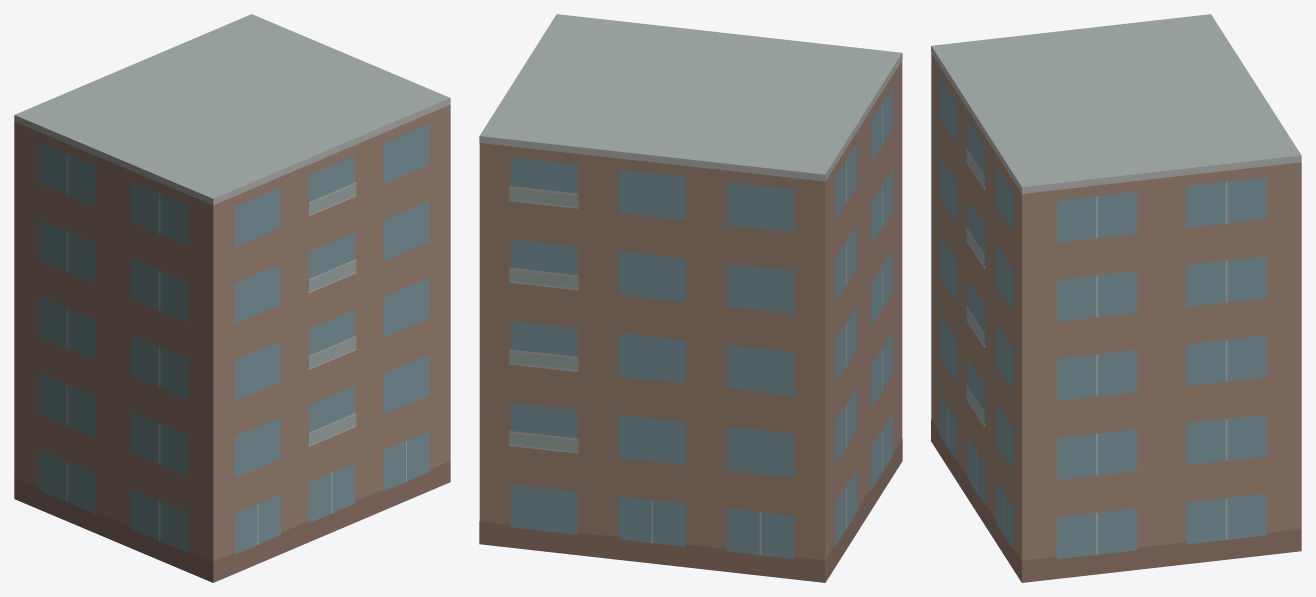
Rendered from survey-upis-32716229.glb.
The picture shows the model from 3 angles, left to right: view 1: azimuth 30°, elevation 25°; view 2: azimuth 150°, elevation 25°; view 3: azimuth 270°, elevation 25°; orthographic projection. The views are drawn at different scales.
Parts seen in each view (by area): view 1: survey-upis-32716229.tmp; view 2: survey-upis-32716229.tmp; view 3: survey-upis-32716229.tmp.
Part boxes in pixels (x1,y1,x2,y2): survey-upis-32716229.tmp: (14, 14, 450, 582); survey-upis-32716229.tmp: (479, 14, 902, 582); survey-upis-32716229.tmp: (931, 14, 1301, 582).
Size of the model in its own units: 13.53 by 14.4 by 12.23.
